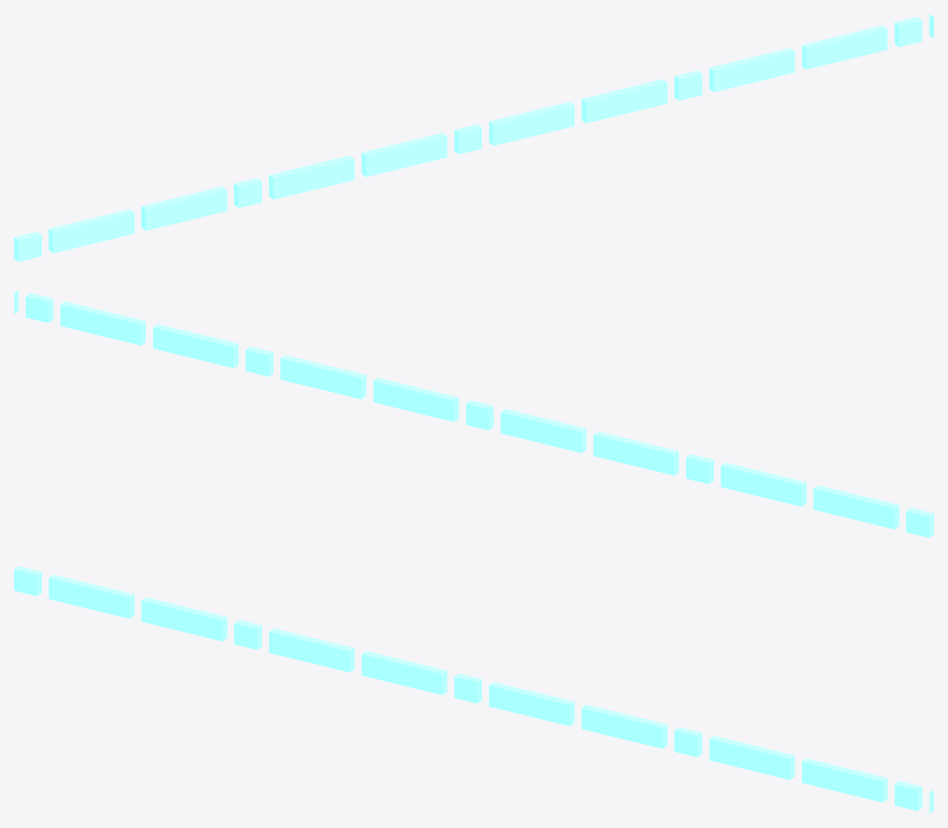
File: runeband_l16.fbx
3 views of the same model, one above another, from view 1: azimuth 30°, elevation 25°; view 2: azimuth 150°, elevation 25°; view 3: azimuth 330°, elevation 25° (orthographic).
Visible parts, largest first — view 1: runeband_l16; view 2: runeband_l16; view 3: runeband_l16.
Boxes of the visible parts, x1=… form: runeband_l16: x1=14, y1=14, x2=933, y2=261; runeband_l16: x1=14, y1=290, x2=933, y2=537; runeband_l16: x1=14, y1=566, x2=933, y2=813.
Size of the model in its own units: 1580 by 35 by 14.
